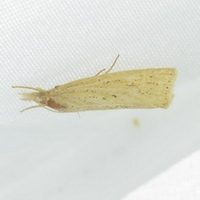insect: (12, 54, 176, 111)
